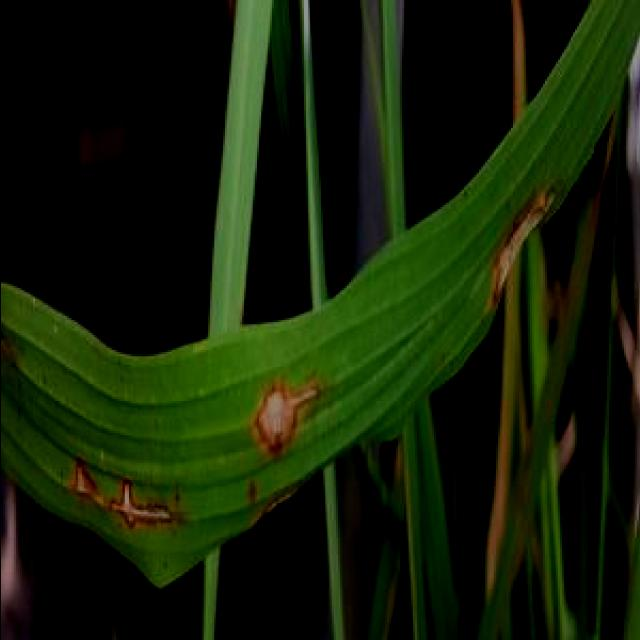Brown_Spot: (58, 452, 200, 528), (239, 371, 315, 460)
